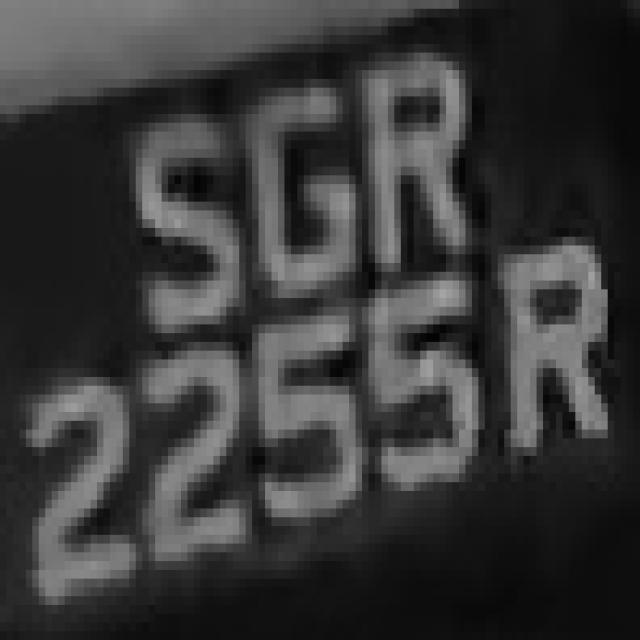2: (19, 359, 142, 640), (122, 333, 258, 579)
5: (342, 254, 484, 500), (239, 281, 375, 526)
G: (220, 61, 368, 307)
R: (491, 246, 621, 474), (343, 44, 472, 272)
S: (122, 87, 258, 350)
